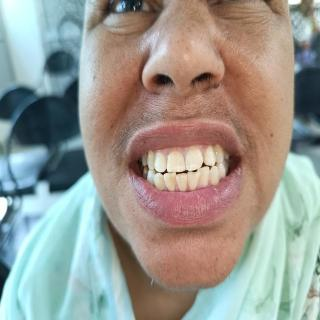maligned: (163, 171, 179, 193), (150, 171, 166, 191), (196, 166, 210, 188), (187, 170, 201, 190), (176, 172, 189, 190), (208, 163, 219, 184)
plaque: (165, 178, 177, 192), (156, 180, 167, 192), (176, 181, 186, 194), (189, 178, 198, 190)
